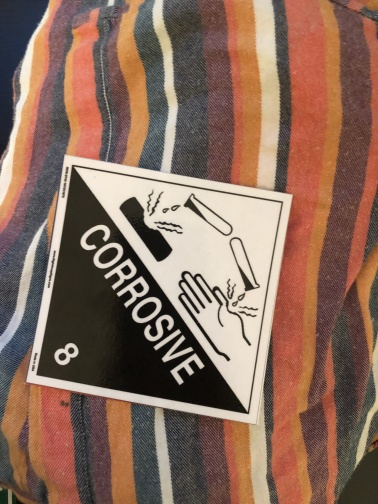Corrosive: (36, 157, 270, 425)
